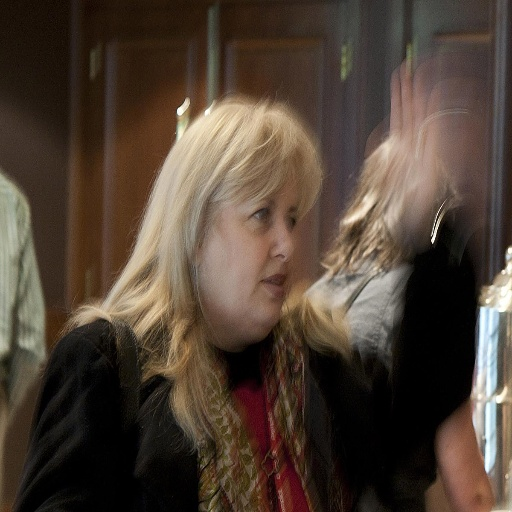hand: (389, 56, 442, 221)
